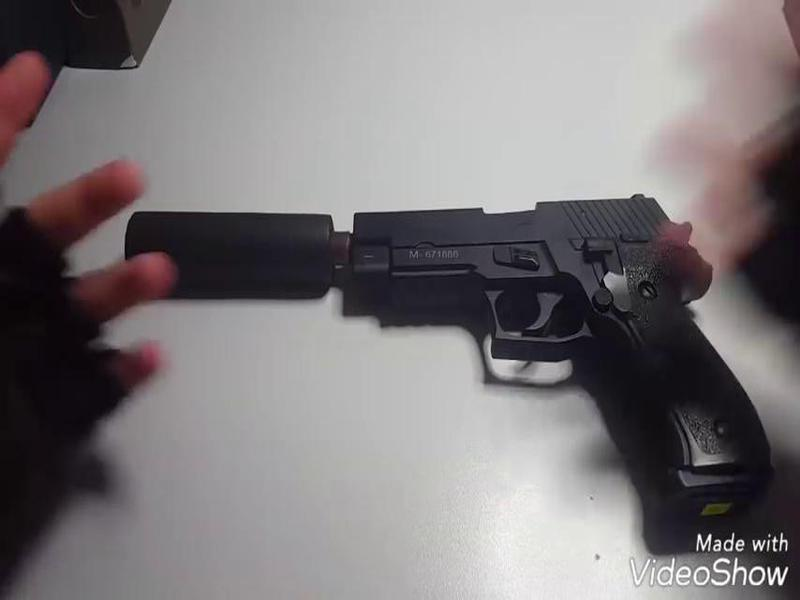Pistola: (118, 144, 759, 514)
